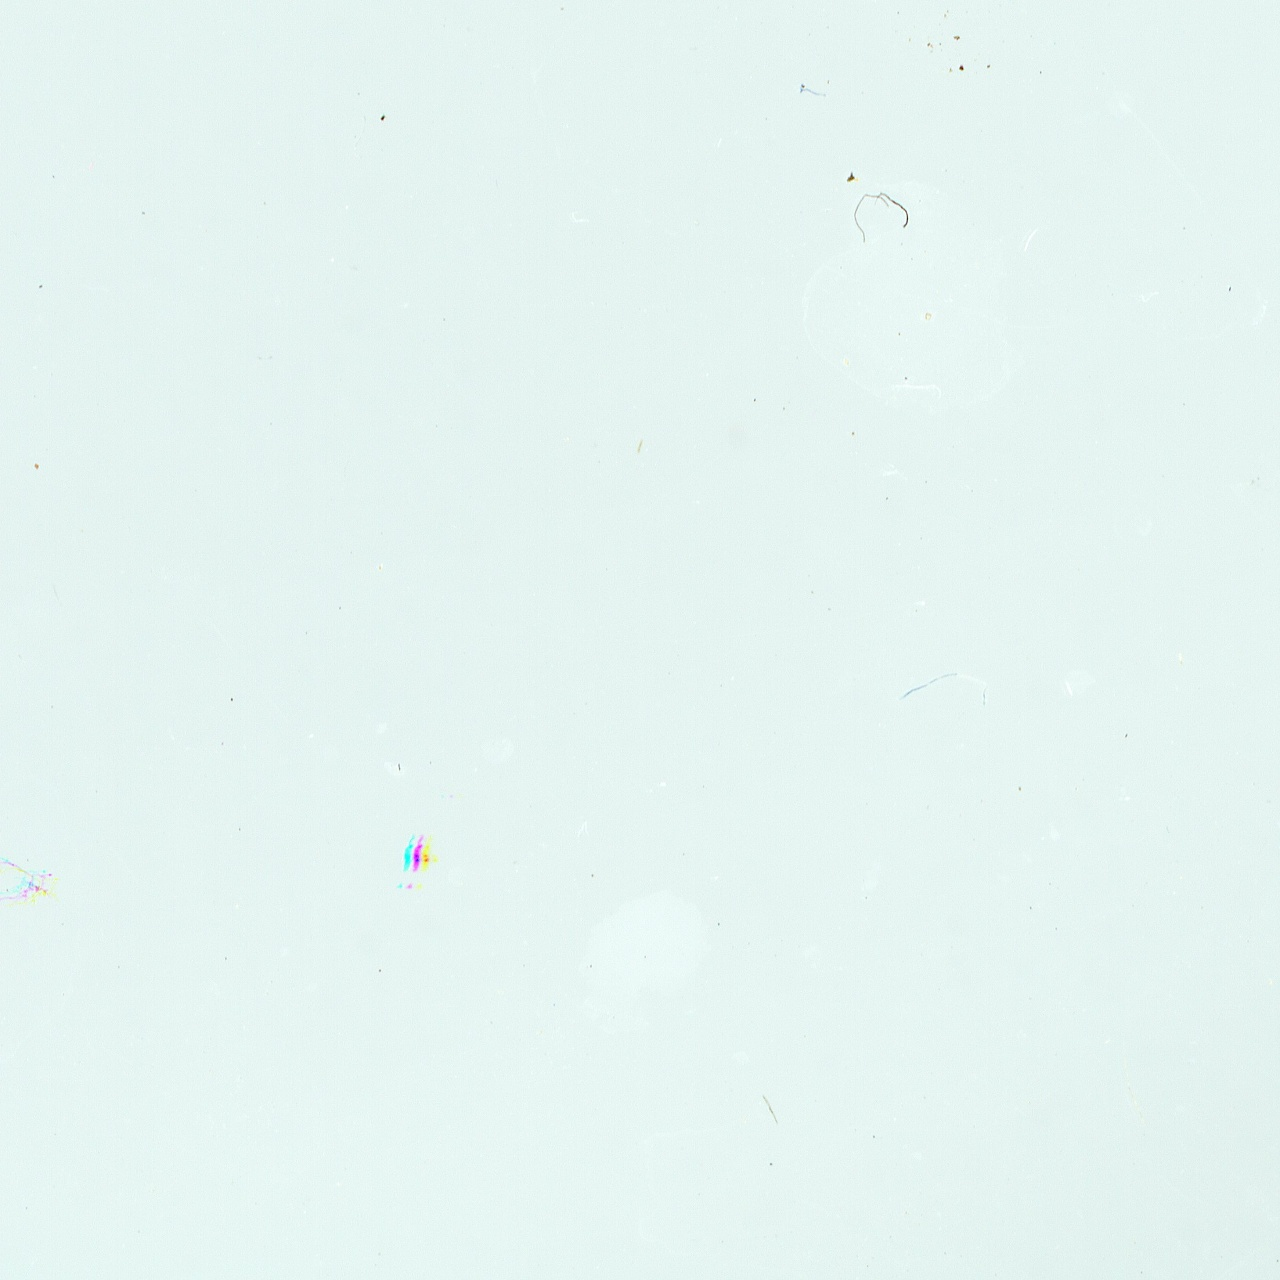arthropod: (393, 827, 438, 897)
